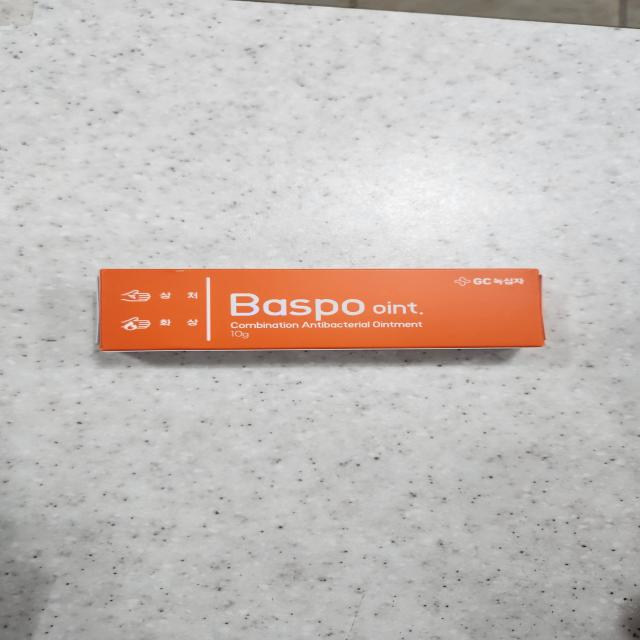box: (99, 268, 545, 352)
